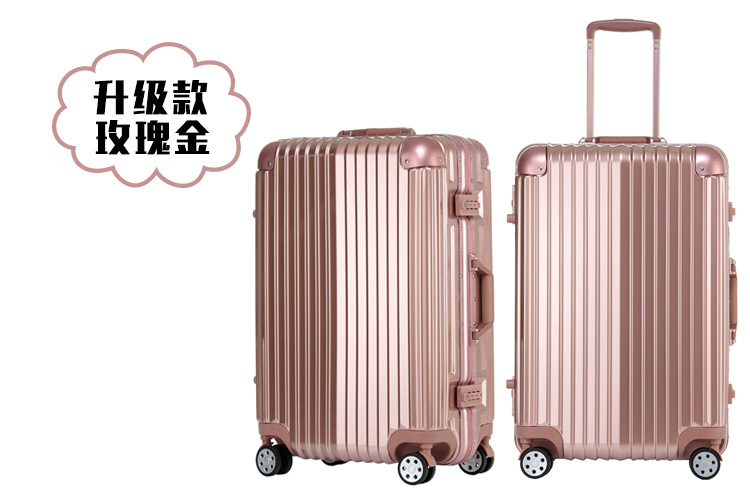luggage: (509, 16, 741, 484), (253, 125, 497, 485)
